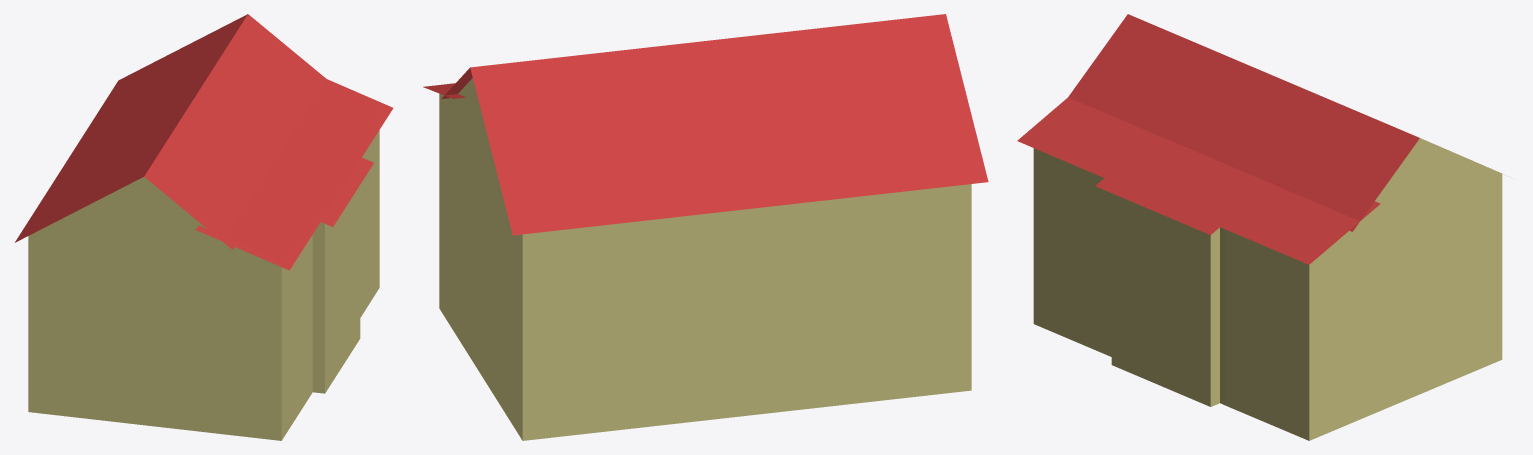
3 views of the same model, side by side, from view 1: azimuth 30°, elevation 25°; view 2: azimuth 150°, elevation 25°; view 3: azimuth 270°, elevation 25° (orthographic). The views are drawn at different scales.
Size of the model in its own units: 21.48 by 21.46 by 12.42.
